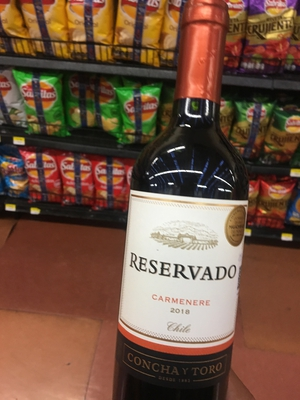reservado carmenere: (112, 10, 260, 400)
